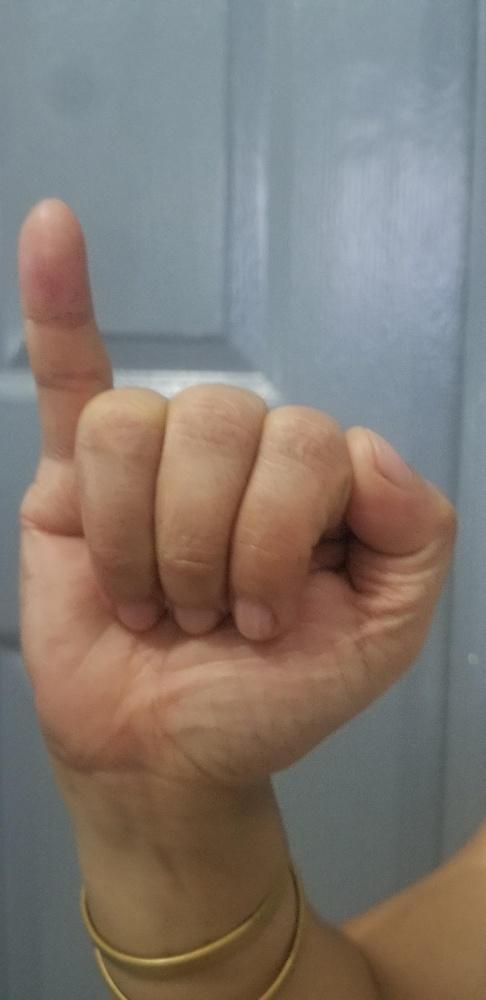i: (16, 195, 459, 780)
